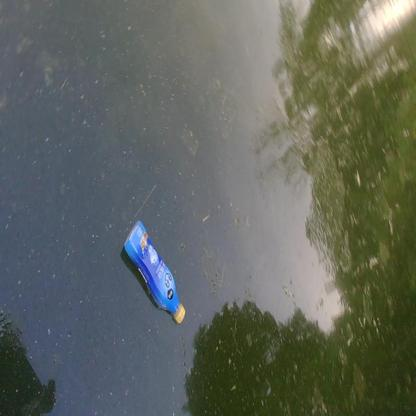plastic bottle: (124, 221, 186, 326)
